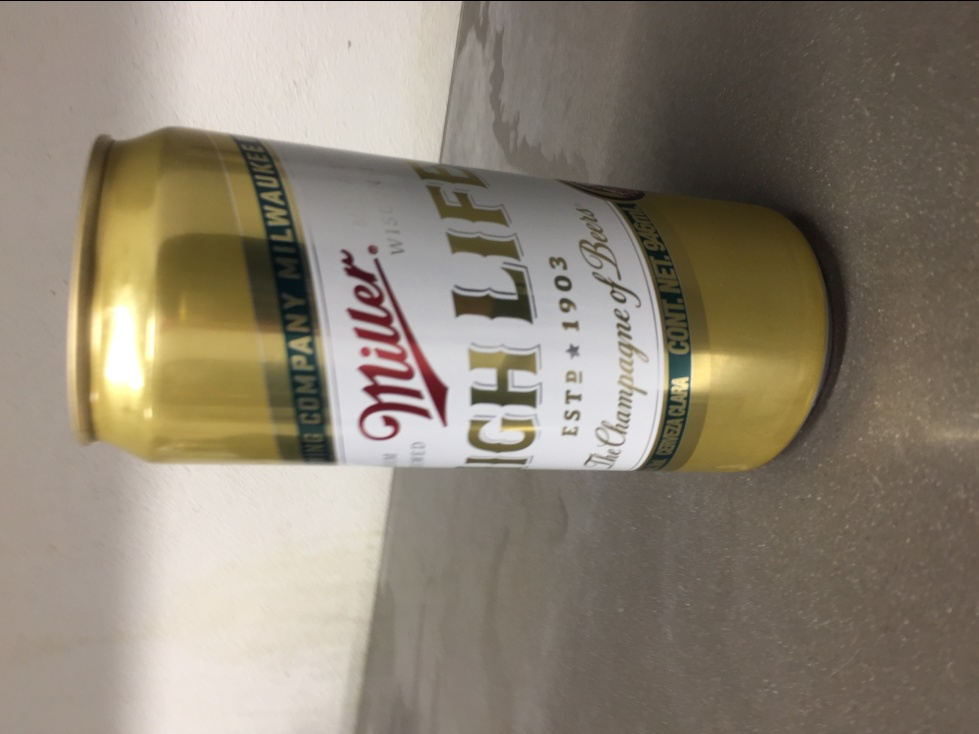miller: (62, 124, 838, 480)
